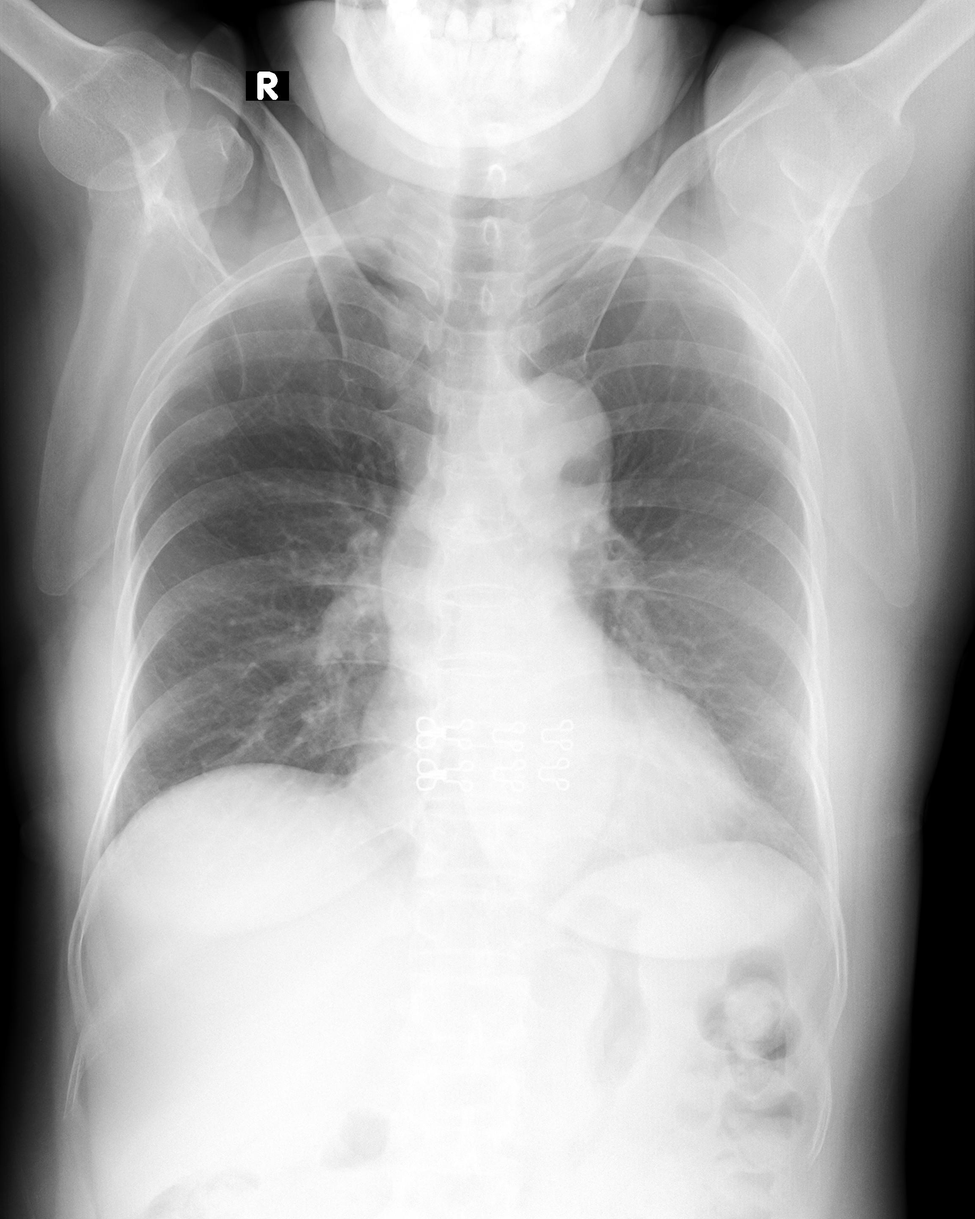Aortic enlargement: (482, 372, 613, 527)
Cardiomegaly: (350, 697, 763, 849)
